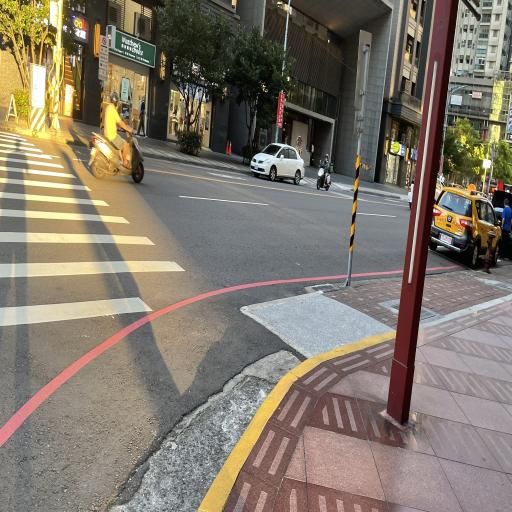car: (429, 174, 497, 270), (249, 120, 312, 194)
redline: (0, 258, 462, 456)
